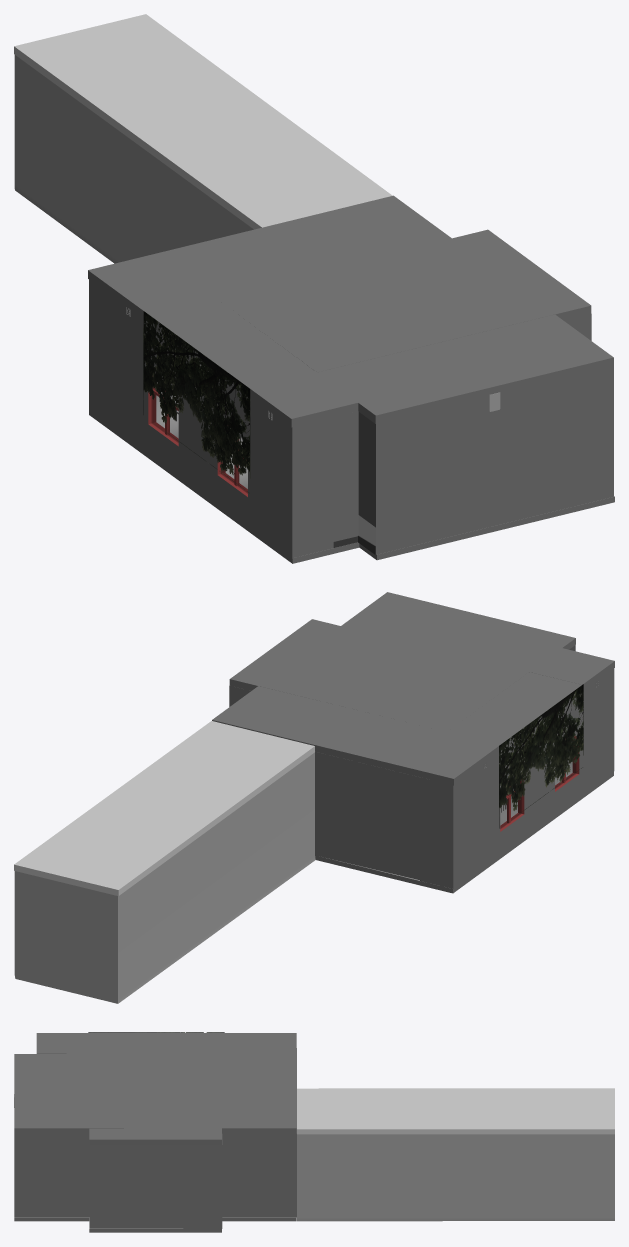
Rendered from room_resized_final_.fbx.
3 renders of one model, top to bottom at view 1: azimuth 30°, elevation 25°; view 2: azimuth 150°, elevation 25°; view 3: azimuth 270°, elevation 25°, orthographic. The views are drawn at different scales.
Parts seen in each view (by area): view 1: roof (×2), wall_short, polySurface2, walls_floor, pCube1, floor, window_wall_glass; view 2: roof (×2), walls_floor, polySurface2, wall_door1, pCube1, floor, window_wall_glass; view 3: roof (×2), walls_floor, wall_long, floor.
Part boxes in pixels (left/top/right/bottom): roof (×2): left=14, top=14, right=613, bottom=427; wall_short: left=358, top=366, right=613, bottom=554; polySurface2: left=89, top=279, right=358, bottom=558; walls_floor: left=14, top=55, right=253, bottom=263; pCube1: left=143, top=311, right=250, bottom=493; floor: left=89, top=410, right=614, bottom=563; window_wall_glass: left=152, top=382, right=247, bottom=493; roof (×2): left=14, top=592, right=614, bottom=895; walls_floor: left=14, top=752, right=315, bottom=1003; polySurface2: left=420, top=668, right=614, bottom=888; wall_door1: left=315, top=751, right=429, bottom=882; pCube1: left=499, top=684, right=583, bottom=828; floor: left=315, top=772, right=613, bottom=893; window_wall_glass: left=500, top=737, right=575, bottom=828; roof (×2): left=14, top=1033, right=614, bottom=1144; walls_floor: left=297, top=1134, right=614, bottom=1221; wall_long: left=14, top=1133, right=296, bottom=1228; floor: left=14, top=1217, right=296, bottom=1232.
Bounding box in the file's own units: 953 × 386 × 2257.
